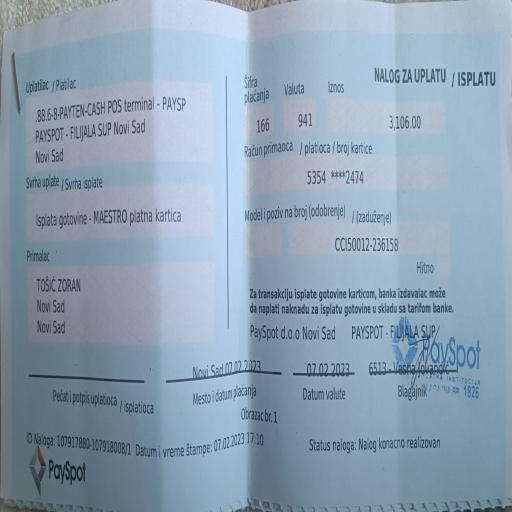svrha_uplate: (24, 169, 200, 241)
uplatnica: (242, 63, 447, 277)
